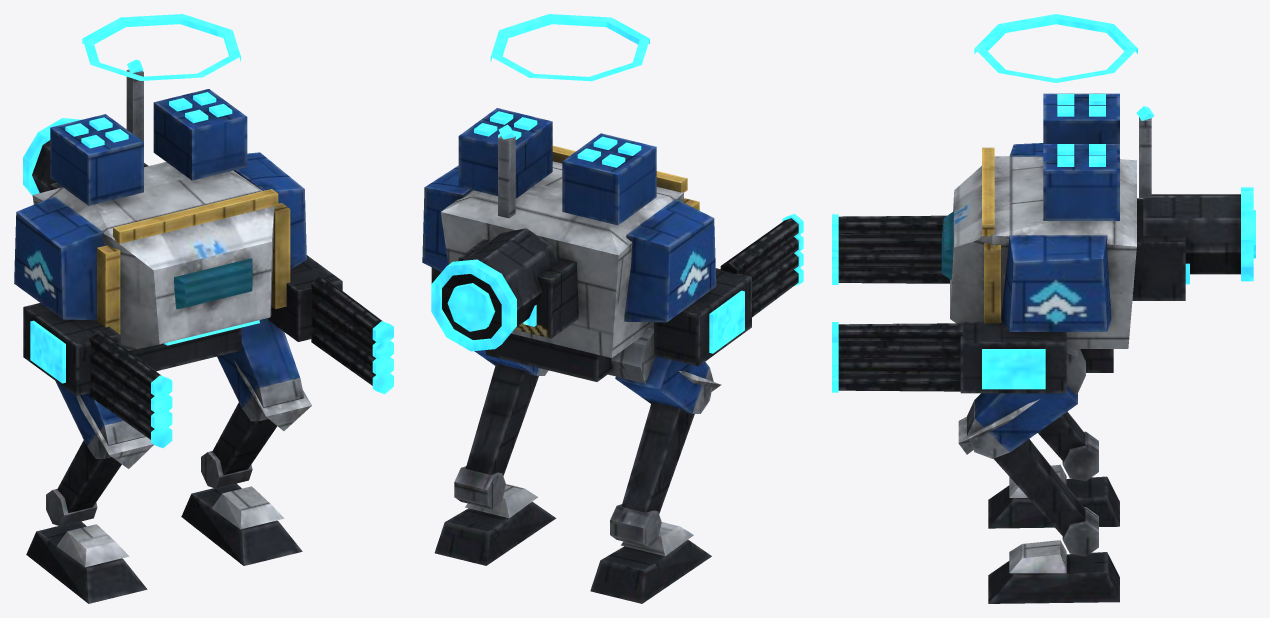
File: u_titan4_w.glb
The picture shows the model from 3 angles, left to right: view 1: azimuth 30°, elevation 25°; view 2: azimuth 150°, elevation 25°; view 3: azimuth 270°, elevation 25°; orthographic projection.
Parts seen in each view (by area): view 1: u_titan4_w; view 2: u_titan4_w; view 3: u_titan4_w.
Boxes of the visible parts, <box> form: u_titan4_w: <box>14,14,393,603</box>; u_titan4_w: <box>422,14,803,603</box>; u_titan4_w: <box>832,14,1255,603</box>.
Bounding box in the file's own units: 1.82 × 3.22 × 2.46.
1 material, 1 textured.
